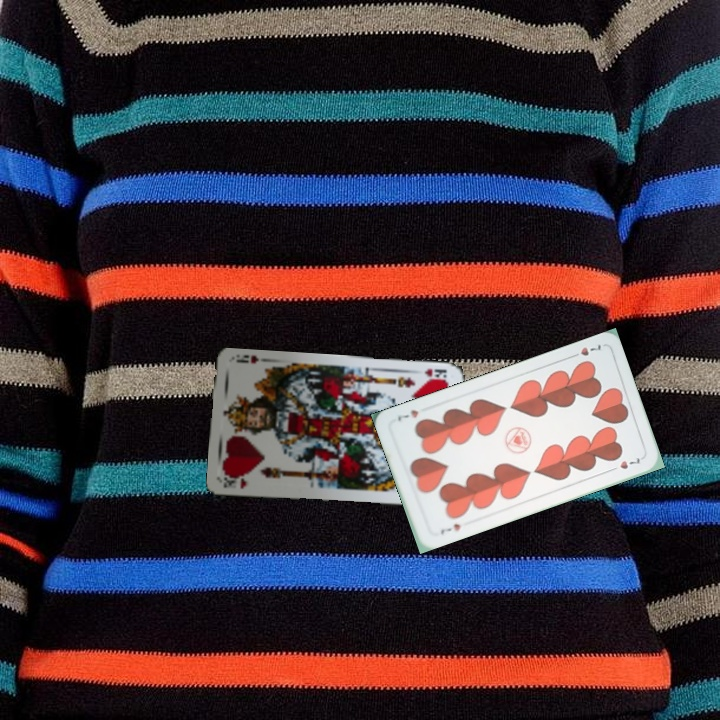H7: (566, 340, 604, 361), (436, 519, 463, 537)
HK: (221, 472, 249, 491), (421, 364, 450, 380)
